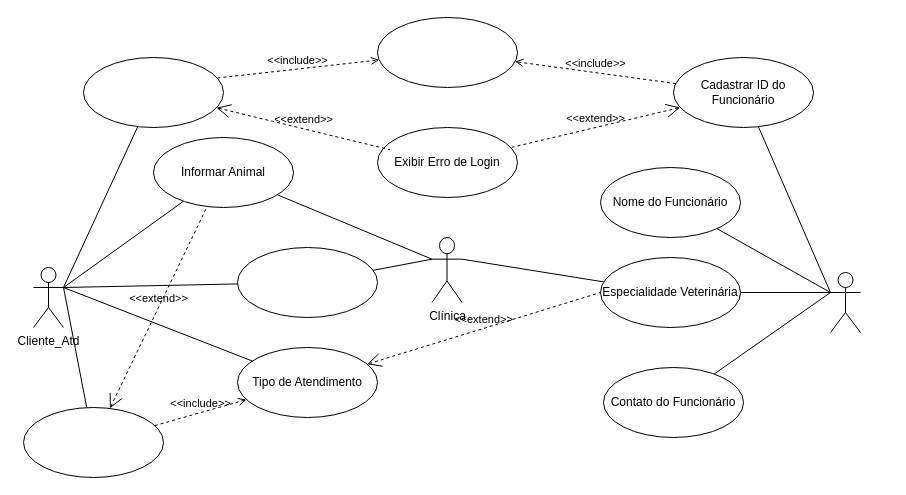
Some shapes in this 906 by 495 pixel diagram are drawn without their labels. Here are the shapes that lost their labels. From the top down, the centre of each, then its label:
At (x=447, y=52): "Verificar Senha".
At (x=153, y=92): "Cadastra o ID".
At (x=307, y=282): "Informa data".
At (x=845, y=302): "Funcionário_Vet".
At (x=93, y=442): "Preço à pagar".
